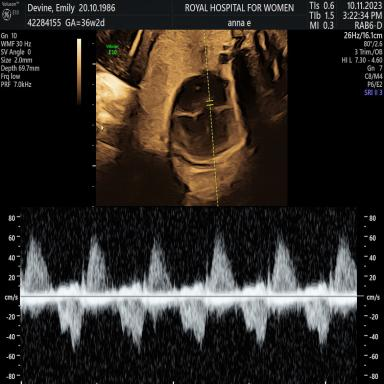Ultrasound-Waves: (26, 208, 355, 384)
